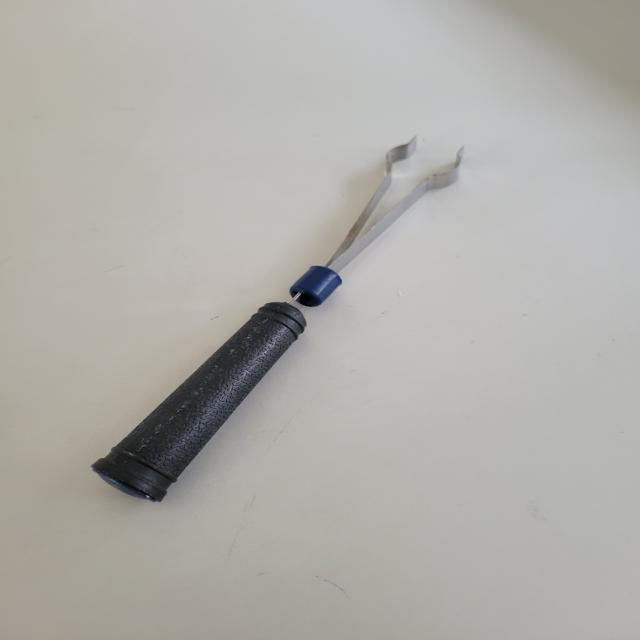TestTube_Holder: (72, 84, 521, 540)
